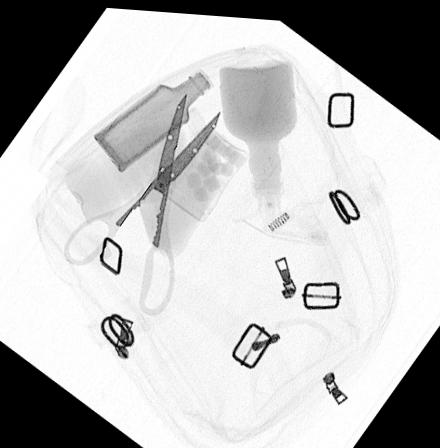Scissors: (62, 87, 220, 314)
